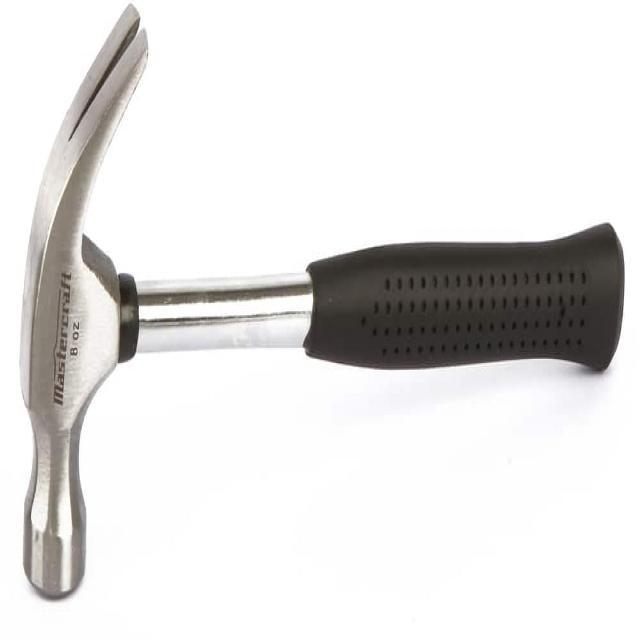hammer: (12, 0, 626, 609)
